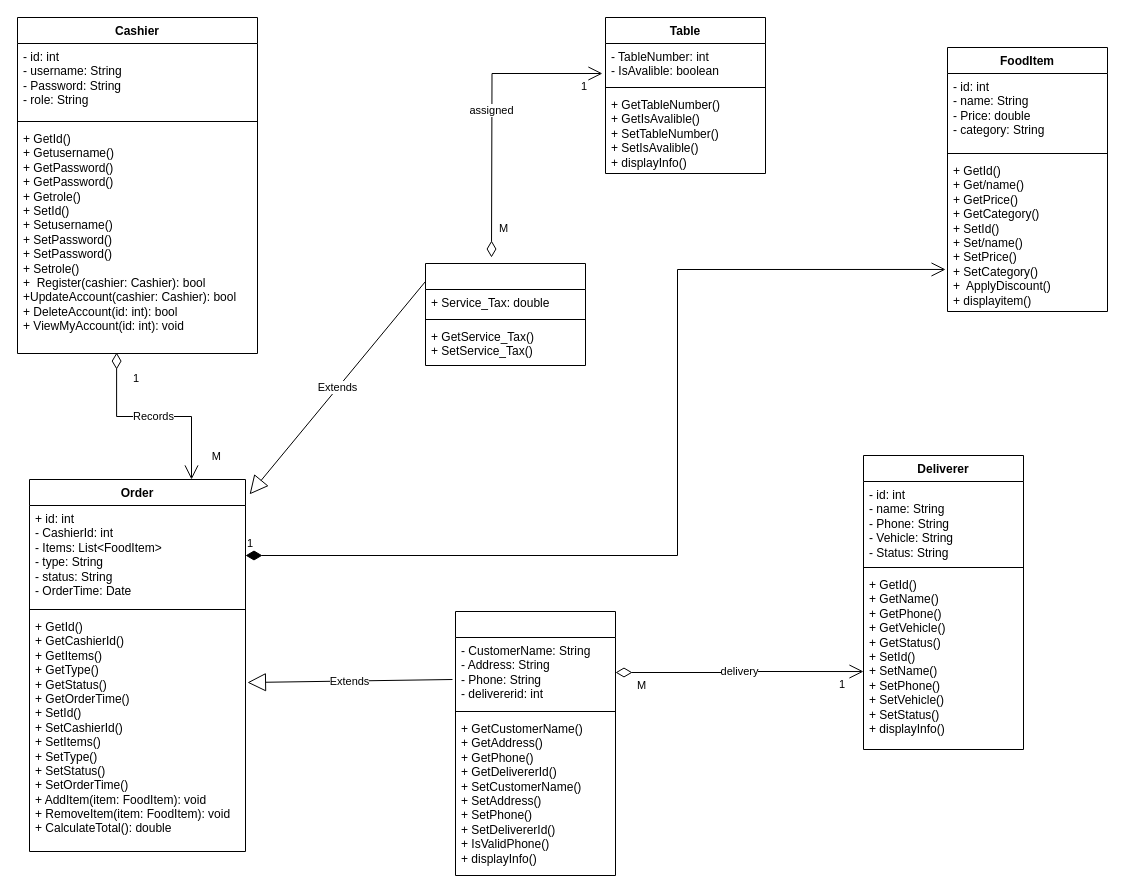
Some shapes in this 1125 by 896 pixel diagram are drawn without their labels. Here are the shapes that lost their labels. From the top down, the box of each, then its label:
(424, 262, 586, 366): In_Order
(454, 610, 616, 876): Out_Order
